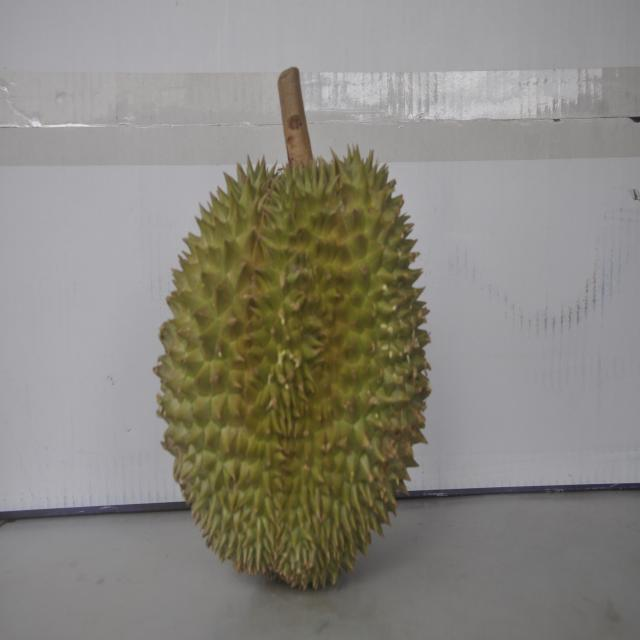mature: (151, 136, 424, 588)
